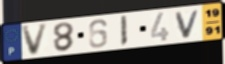4: (149, 11, 171, 43)
6: (88, 18, 109, 49)
8: (52, 22, 76, 53)
I: (120, 15, 129, 48)
V: (21, 22, 51, 57), (174, 8, 202, 40)
